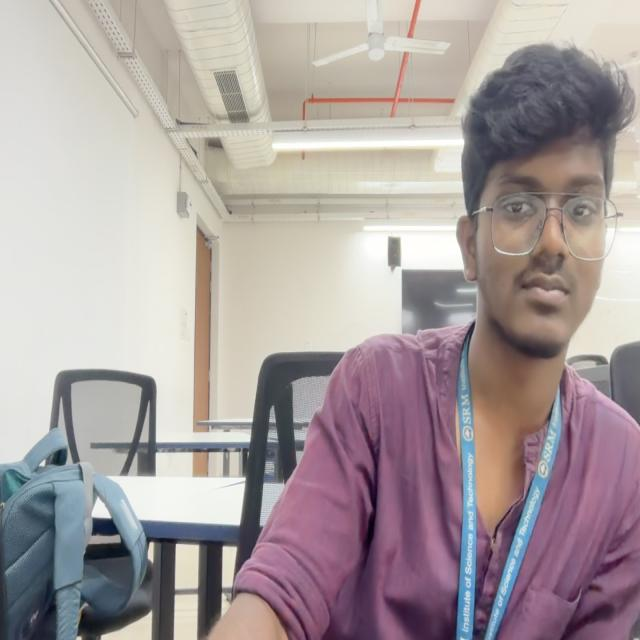ravindra: (457, 42, 634, 352)
